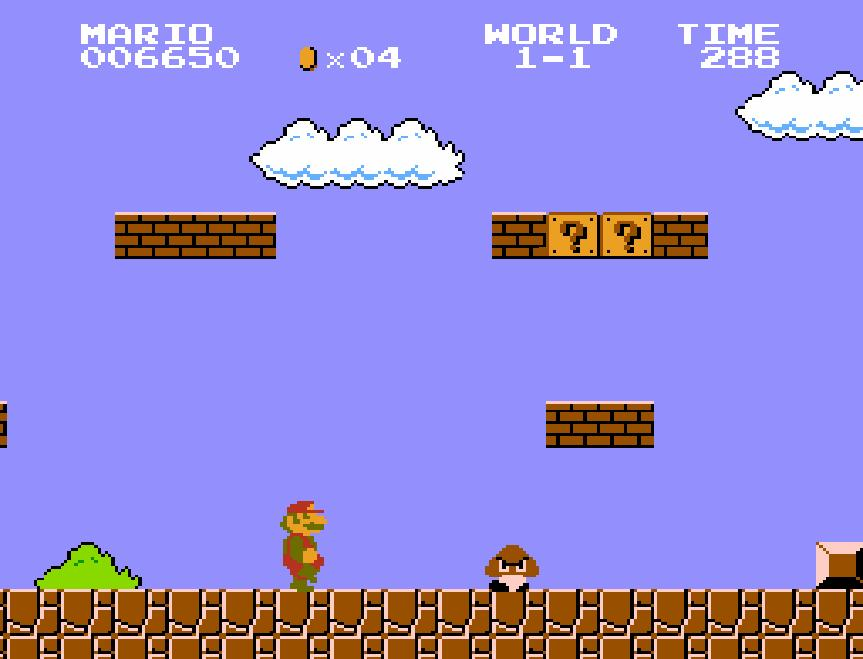big_mario: (274, 496, 332, 594)
